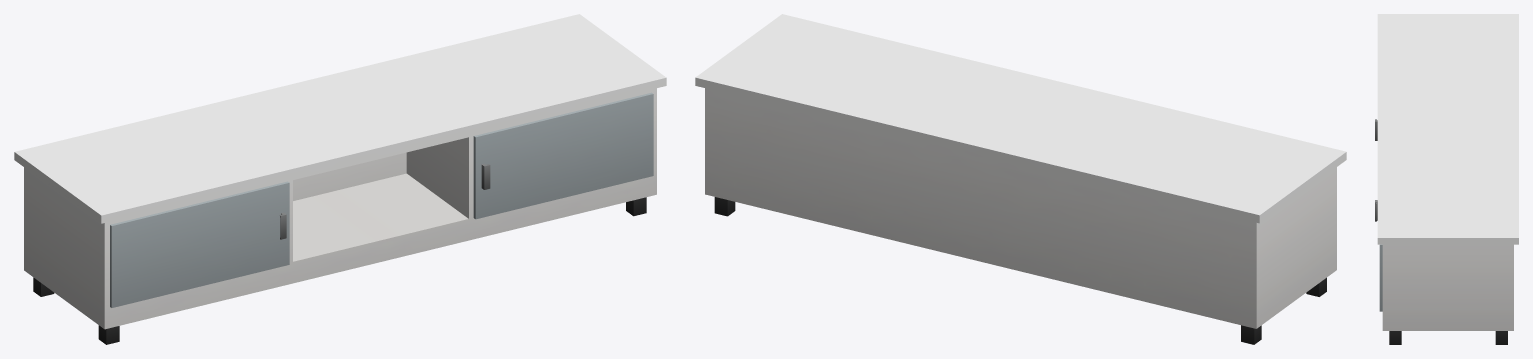
Rendered from SideboardCabinet_A_WhiteGrey.fbx.
3 renders of one model, left to right at view 1: azimuth 30°, elevation 25°; view 2: azimuth 150°, elevation 25°; view 3: azimuth 270°, elevation 25°, orthographic. The views are drawn at different scales.
Parts seen in each view (by area): view 1: SideboardCabinet_A_WhiteGrey; view 2: SideboardCabinet_A_WhiteGrey; view 3: SideboardCabinet_A_WhiteGrey.
Boxes of the visible parts, <box> form: SideboardCabinet_A_WhiteGrey: <box>14,14,666,344</box>; SideboardCabinet_A_WhiteGrey: <box>695,14,1346,344</box>; SideboardCabinet_A_WhiteGrey: <box>1375,14,1518,344</box>.
Bounding box in the file's own units: 300 × 69.86 × 81.41.
